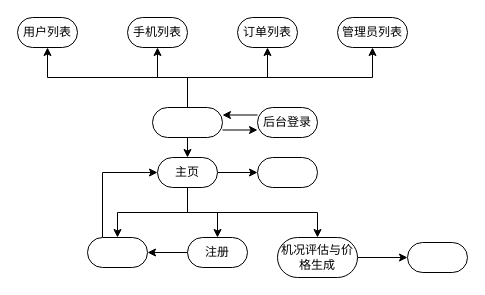
The diagram is 485 pixels wide and 295 high, and some of its shapes have lost their labels. The shapes that lost their labels are listed below. From the top down, each one's box as (x1, y1, x2, y2) in pixels, then its label:
(152, 106, 222, 138): 后台主界面
(256, 156, 318, 188): 账户管理
(86, 236, 148, 268): 登录
(406, 242, 468, 272): 生成订单
